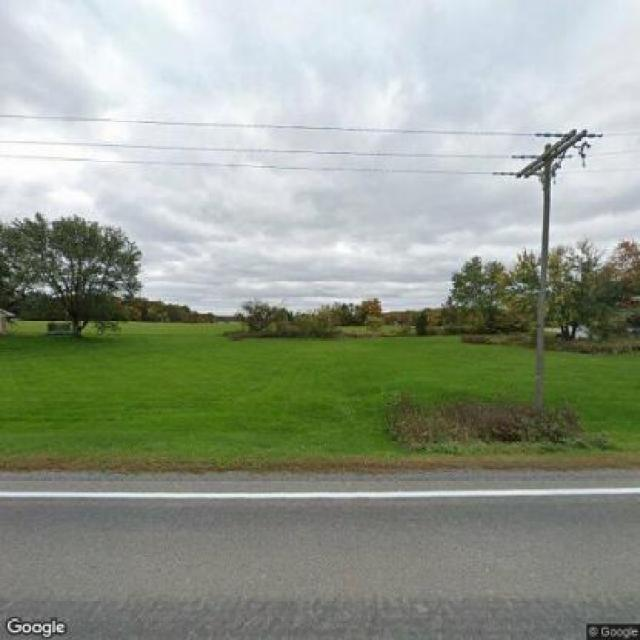pole: (513, 121, 590, 384)
